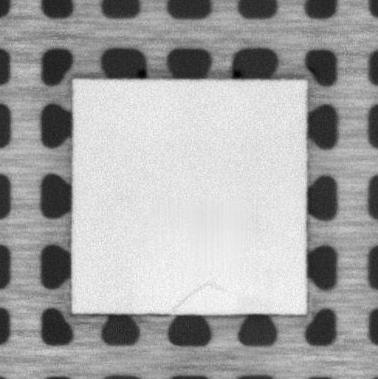DIE_CRACK: (172, 281, 224, 310)
